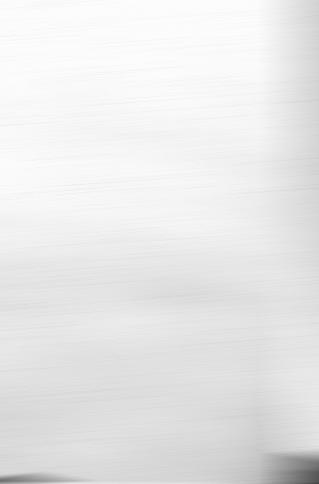Airbag: (0, 0, 319, 484), (295, 0, 319, 474)
